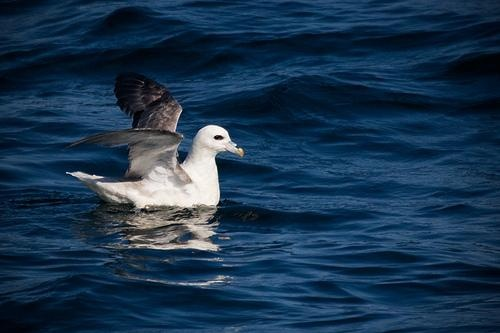bird: (69, 73, 246, 209)
